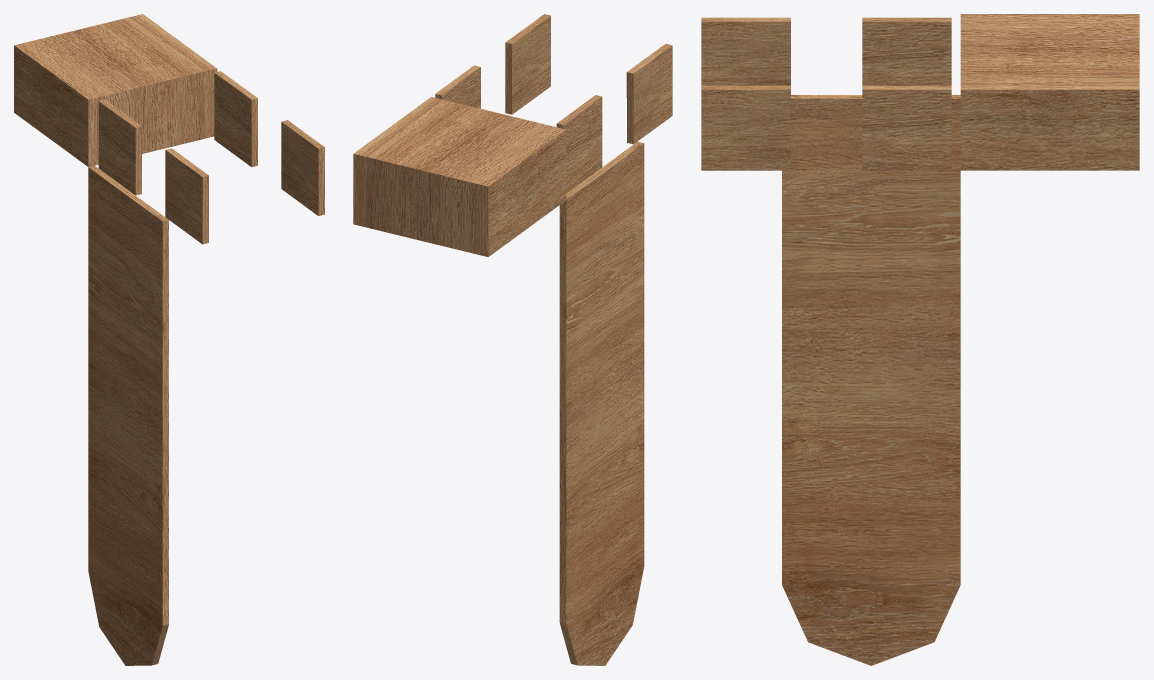
The model's file is 42402_gpt-only.glb.
3 renders of one model, left to right at view 1: azimuth 30°, elevation 25°; view 2: azimuth 150°, elevation 25°; view 3: azimuth 270°, elevation 25°, orthographic. The views are drawn at different scales.
Parts seen in each view (by area): view 1: ParentEmpty; view 2: ParentEmpty; view 3: ParentEmpty.
Part boxes in pixels (bbox=[...]): ParentEmpty: bbox=[14, 14, 324, 665]; ParentEmpty: bbox=[353, 14, 672, 665]; ParentEmpty: bbox=[701, 14, 1139, 665].
Size of the model in its own units: 0.2501 by 1 by 0.6125.
1 material, 1 textured.
